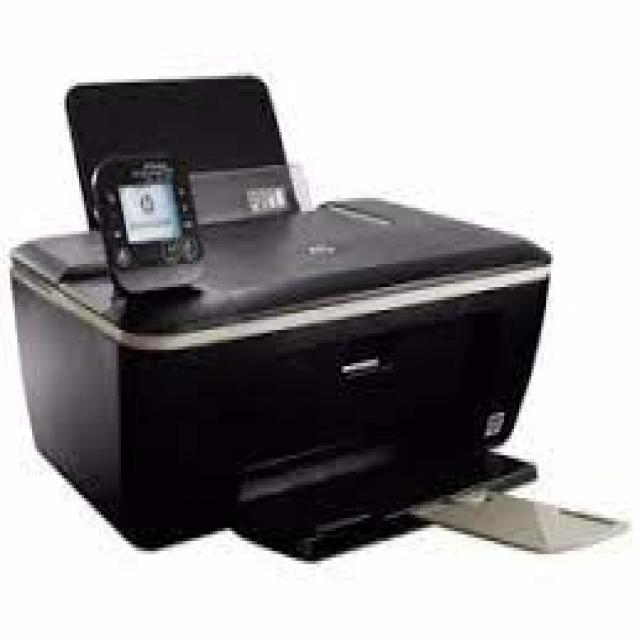printer: (1, 50, 640, 593)
